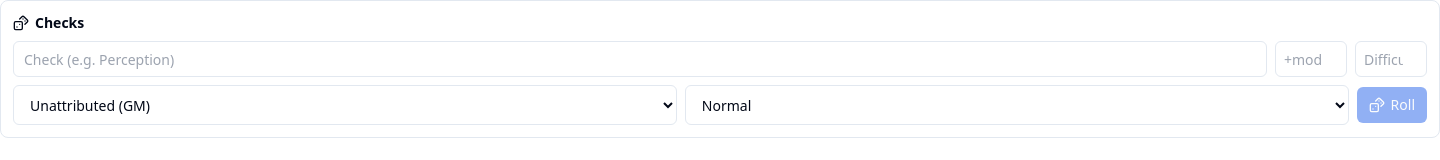
CheckPanel › disables Roll until a label is entered
Expected: the button "Roll" is disabled, [1357, 87, 1427, 123]
Type "Perception" into the field named "Check label" at (640, 59), box [13, 41, 1267, 77]
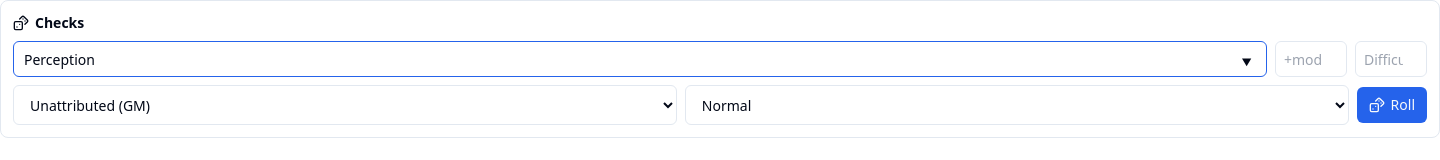
Expected: the button "Roll" is enabled, [1357, 87, 1427, 123]
